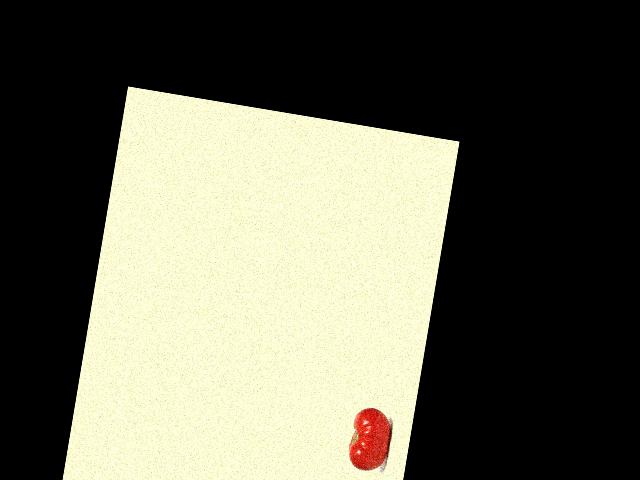tomato: (345, 405, 394, 473)
